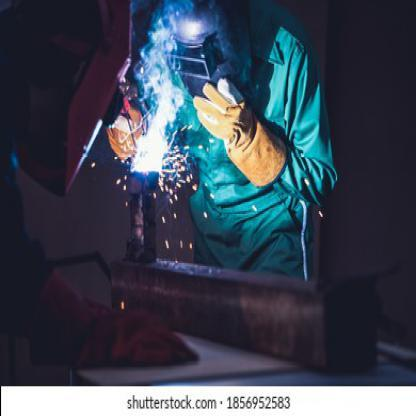Gloves: (29, 266, 200, 367), (192, 76, 287, 190)
